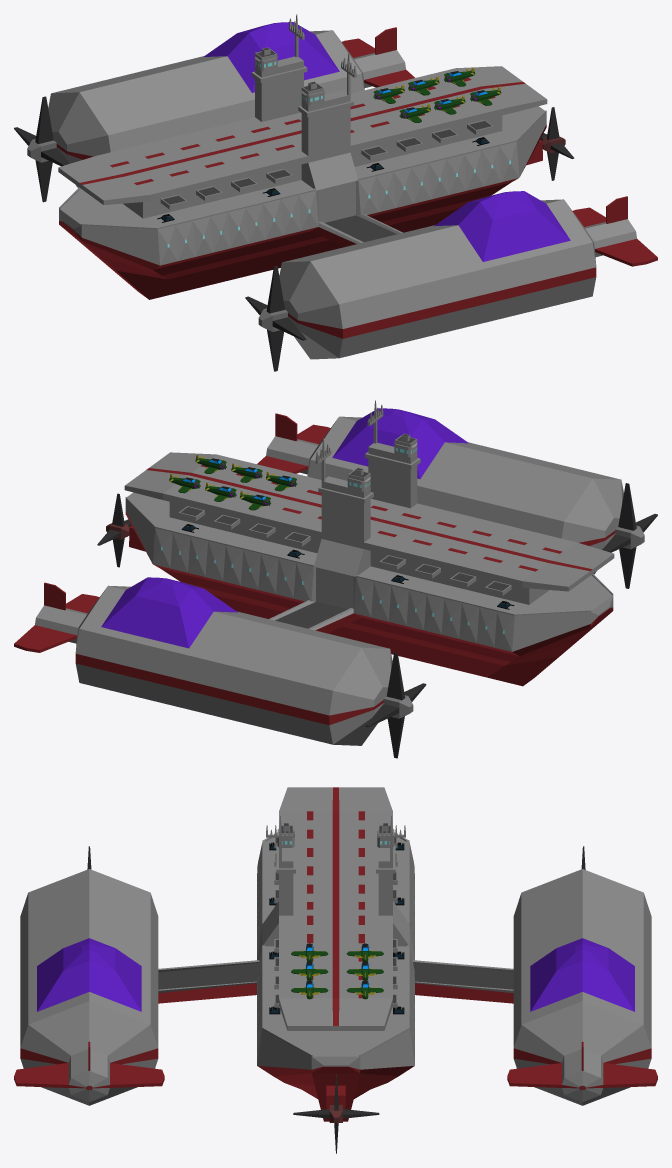
Rendered from FlyingAkagi.fbx.
3 views of the same model, one above another, from view 1: azimuth 30°, elevation 25°; view 2: azimuth 150°, elevation 25°; view 3: azimuth 270°, elevation 25° (orthographic). The views are drawn at different scales.
Visible parts, largest first — view 1: Cube, Cube.013, Cube.014, Cube.015; view 2: Cube, Cube.014, Cube.013, Cube.015; view 3: Cube, Cube.015.
Boxes of the visible parts, x1=… form: Cube: x1=48, y1=14, x2=657, y2=359; Cube.013: x1=245, y1=266, x2=306, y2=371; Cube.014: x1=14, y1=96, x2=69, y2=202; Cube.015: x1=540, y1=107, x2=574, y2=180; Cube: x1=14, y1=400, x2=623, y2=745; Cube.014: x1=365, y1=652, x2=426, y2=758; Cube.013: x1=602, y1=483, x2=657, y2=588; Cube.015: x1=97, y1=493, x2=131, y2=567; Cube: x1=14, y1=787, x2=657, y2=1121; Cube.015: x1=293, y1=1074, x2=379, y2=1153.
Size of the model in its own units: 2350 by 989 by 2472.
